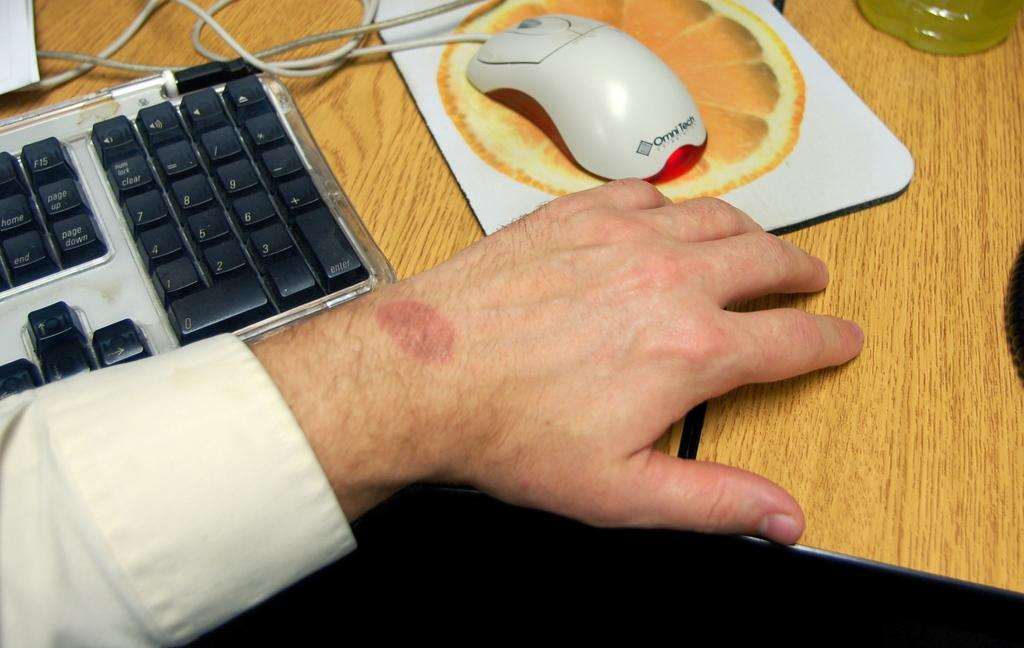Computer-mouse: (469, 4, 709, 177)
